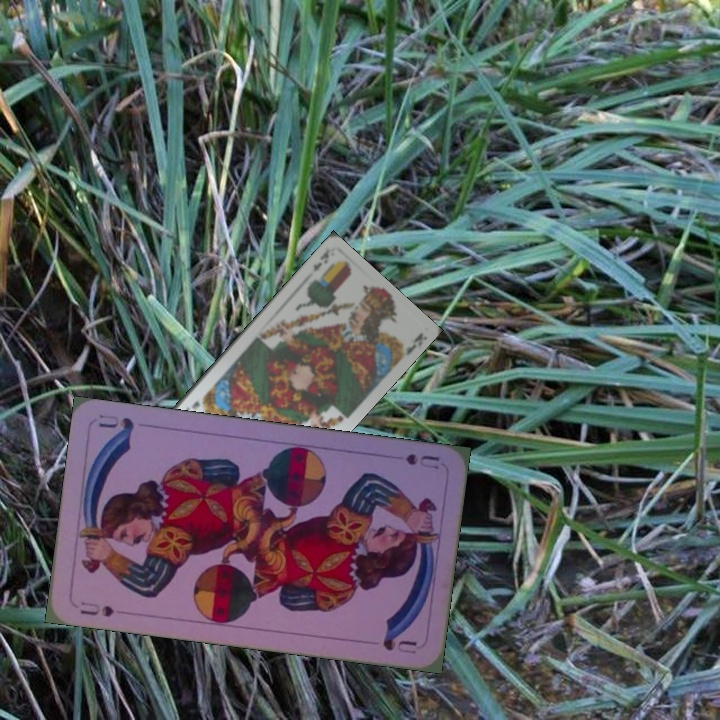EK: (309, 245, 332, 274)
SU: (401, 449, 442, 472), (76, 597, 117, 620)
